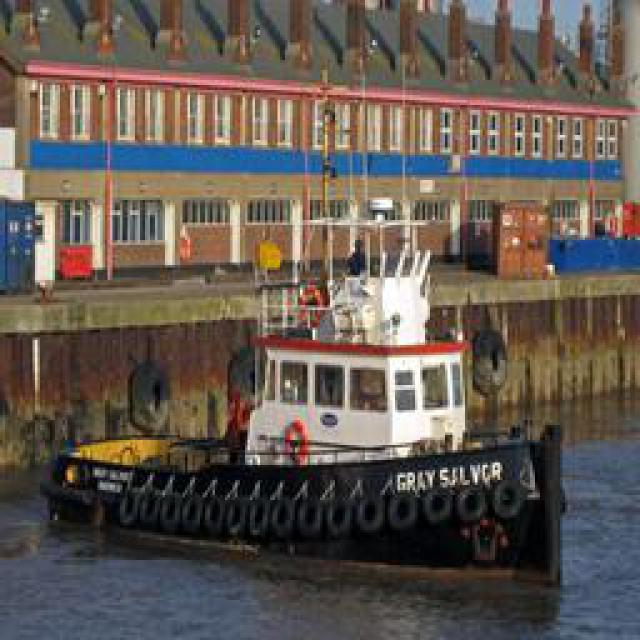Ship: (39, 194, 574, 606)
